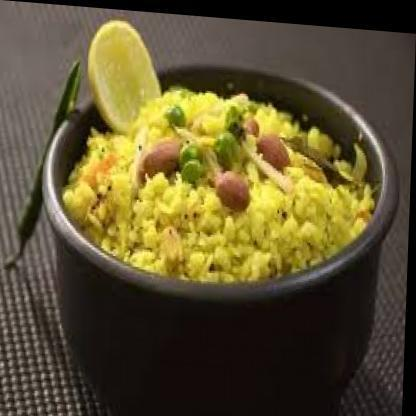poha: (61, 77, 379, 289)
